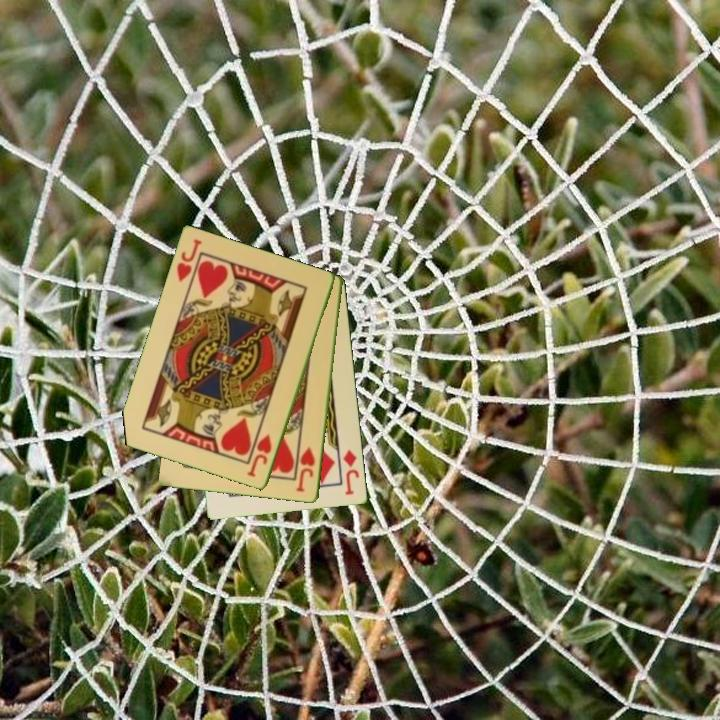Jd: (340, 446, 362, 498)
Jh: (173, 236, 205, 285), (244, 431, 275, 480), (293, 444, 318, 495)
